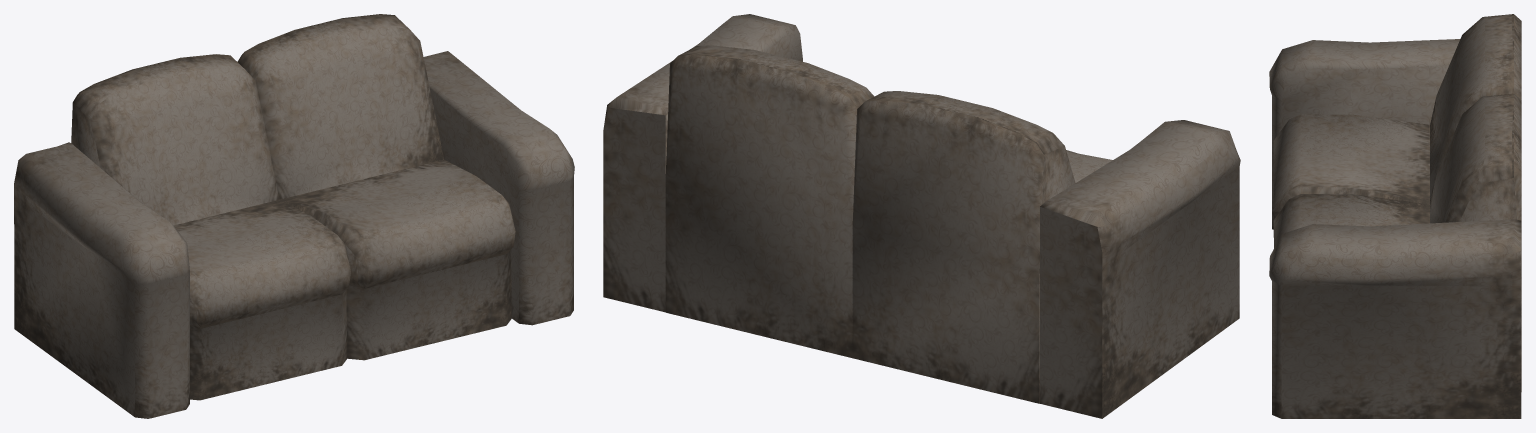
File: SmallSofa.FBX
3 views of the same model, side by side, from view 1: azimuth 30°, elevation 25°; view 2: azimuth 150°, elevation 25°; view 3: azimuth 270°, elevation 25° (orthographic). The views are drawn at different scales.
Visible parts, largest first — view 1: SmallSofa; view 2: SmallSofa; view 3: SmallSofa.
Boxes of the visible parts, left/top/right/bottom form: SmallSofa: left=14, top=14, right=574, bottom=418; SmallSofa: left=603, top=14, right=1240, bottom=418; SmallSofa: left=1269, top=14, right=1521, bottom=418.
Size of the model in its own units: 165 by 80.32 by 81.64.
